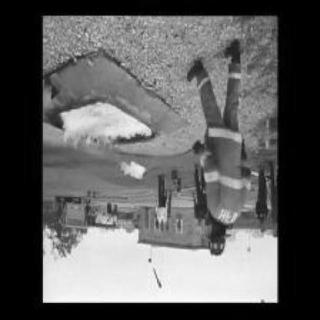Fire: (59, 101, 154, 153), (113, 158, 146, 188)
